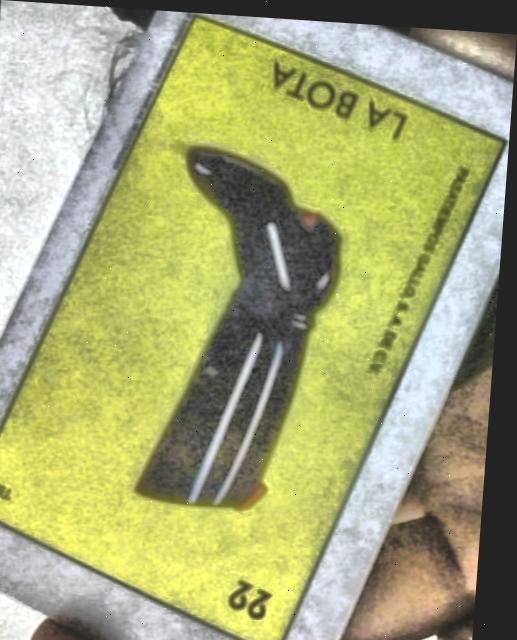La Bota: (0, 12, 507, 640)
